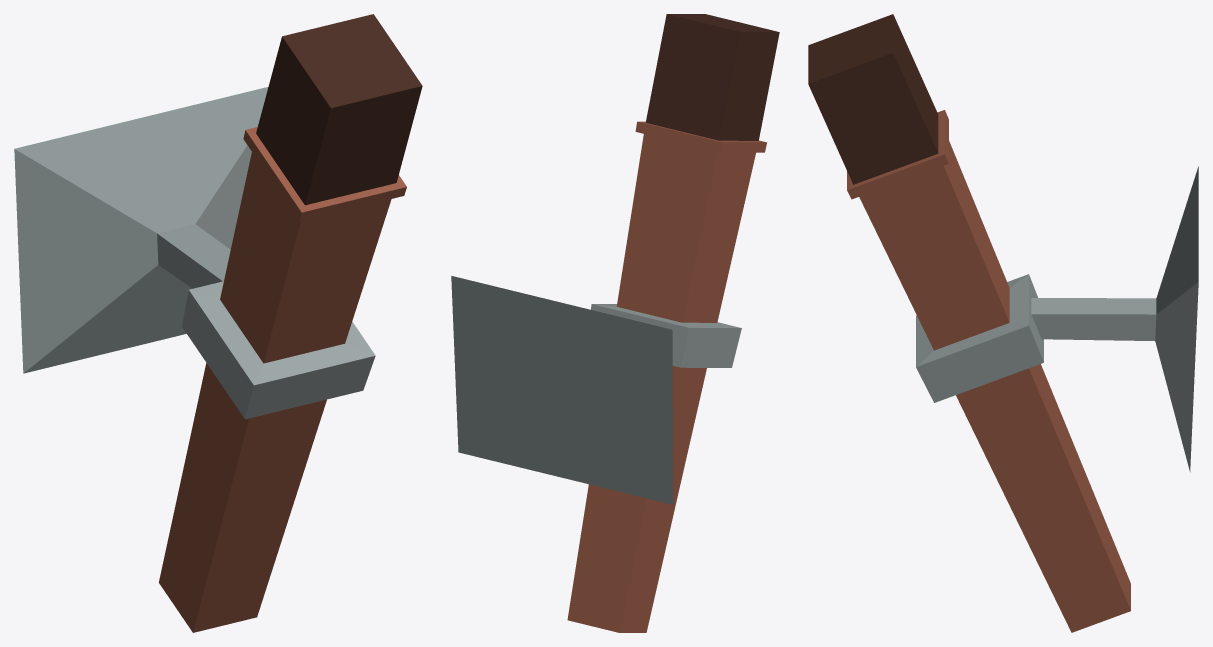
The model's file is Torch.fbx.
3 renders of one model, left to right at view 1: azimuth 30°, elevation 25°; view 2: azimuth 150°, elevation 25°; view 3: azimuth 270°, elevation 25°, orthographic. The views are drawn at different scales.
Parts seen in each view (by area): view 1: Cube; view 2: Cube; view 3: Cube.
Part boxes in pixels (x1,y1,x2,y2): Cube: (14,14,422,632); Cube: (451,14,779,632); Cube: (808,14,1198,632).
Size of the model in its own units: 90.57 by 213 by 128.
